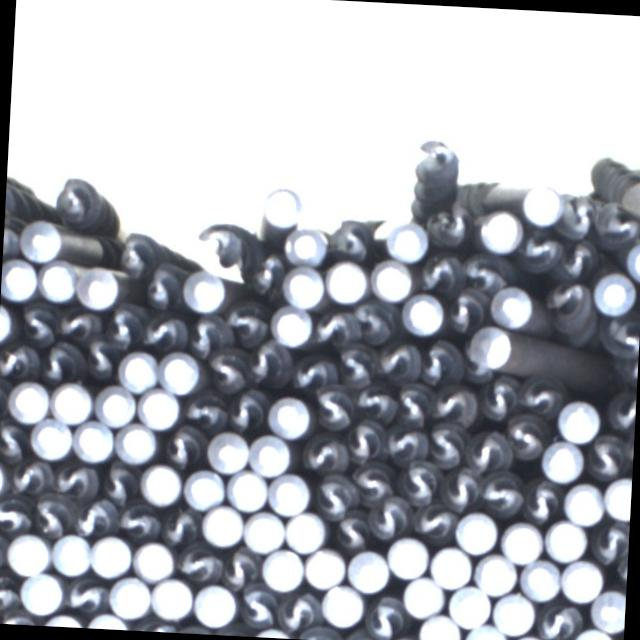tool: (467, 323, 513, 370), (368, 256, 414, 302), (477, 208, 523, 254), (592, 270, 637, 316), (260, 184, 306, 229), (50, 379, 94, 425), (282, 265, 326, 310), (8, 379, 52, 424), (346, 549, 390, 594), (138, 460, 182, 505), (20, 571, 66, 614), (383, 220, 432, 260), (108, 574, 152, 618), (324, 258, 368, 302), (473, 552, 517, 596), (560, 559, 604, 603), (193, 582, 237, 626), (556, 398, 600, 442), (384, 535, 428, 579), (499, 521, 544, 564), (5, 532, 50, 575), (562, 479, 604, 525), (321, 584, 364, 628), (28, 417, 72, 460), (522, 182, 566, 225), (491, 284, 534, 328), (89, 534, 132, 578), (150, 576, 193, 620), (260, 546, 303, 590), (37, 258, 80, 302), (454, 510, 497, 554), (448, 582, 490, 627), (544, 517, 586, 562), (491, 592, 536, 634), (284, 223, 329, 265), (116, 349, 159, 392), (72, 420, 116, 462), (243, 508, 285, 552), (114, 422, 158, 464), (78, 266, 120, 310), (518, 560, 562, 602), (430, 544, 472, 588), (303, 546, 345, 590), (402, 292, 444, 336), (541, 438, 583, 482), (132, 538, 176, 580), (160, 350, 201, 395), (183, 467, 225, 510), (20, 220, 63, 262), (201, 504, 244, 546), (137, 388, 180, 430), (401, 576, 444, 618), (184, 270, 226, 313), (207, 432, 250, 474), (50, 532, 91, 576), (267, 393, 307, 438), (249, 434, 291, 476), (284, 510, 326, 552), (227, 470, 268, 512), (96, 386, 137, 428), (268, 472, 309, 514), (588, 588, 626, 632), (1, 257, 38, 301), (272, 306, 312, 346), (603, 476, 632, 520), (417, 613, 460, 640), (465, 621, 507, 640), (623, 240, 640, 281), (571, 626, 615, 640)
tool_b: (195, 218, 258, 274), (412, 136, 460, 209), (54, 173, 100, 225), (26, 494, 78, 540), (244, 338, 290, 388), (70, 494, 120, 540), (328, 214, 373, 264), (310, 472, 356, 520), (173, 542, 223, 586), (542, 280, 592, 324), (310, 385, 356, 432), (438, 466, 484, 512), (201, 347, 246, 394), (481, 471, 526, 518), (421, 338, 465, 386), (390, 381, 432, 431), (466, 428, 511, 474), (533, 601, 586, 640), (144, 260, 183, 312), (398, 462, 442, 508), (364, 593, 407, 640), (296, 434, 346, 474), (227, 299, 270, 345), (430, 383, 476, 426), (117, 499, 160, 545), (334, 342, 376, 389), (313, 306, 357, 350), (187, 310, 228, 357), (344, 418, 384, 466), (592, 202, 640, 242), (460, 252, 510, 290), (352, 299, 396, 342), (412, 504, 459, 544), (50, 462, 98, 501), (380, 423, 428, 462), (0, 458, 50, 495), (442, 290, 486, 332), (290, 350, 334, 392), (368, 496, 410, 540), (278, 590, 322, 632), (116, 230, 156, 276), (374, 341, 420, 381), (220, 546, 262, 589), (429, 202, 468, 248), (480, 374, 519, 420), (14, 303, 56, 345), (353, 379, 396, 420), (521, 228, 561, 272), (161, 424, 201, 468), (237, 587, 278, 629), (426, 425, 466, 468), (558, 197, 598, 240), (505, 415, 544, 459), (104, 300, 138, 350), (61, 576, 108, 612), (590, 520, 630, 562), (586, 435, 624, 479), (41, 338, 78, 382), (138, 314, 184, 349), (420, 252, 460, 292), (56, 304, 98, 342), (183, 395, 225, 433), (604, 318, 640, 362), (230, 386, 264, 432), (250, 251, 284, 296), (98, 464, 136, 504), (516, 378, 556, 416), (160, 506, 198, 546), (356, 465, 394, 505), (560, 242, 600, 280), (82, 336, 116, 379), (0, 342, 36, 381), (0, 418, 28, 463), (336, 514, 369, 552), (0, 493, 31, 533), (608, 396, 636, 432), (0, 573, 21, 611), (0, 529, 8, 578)
